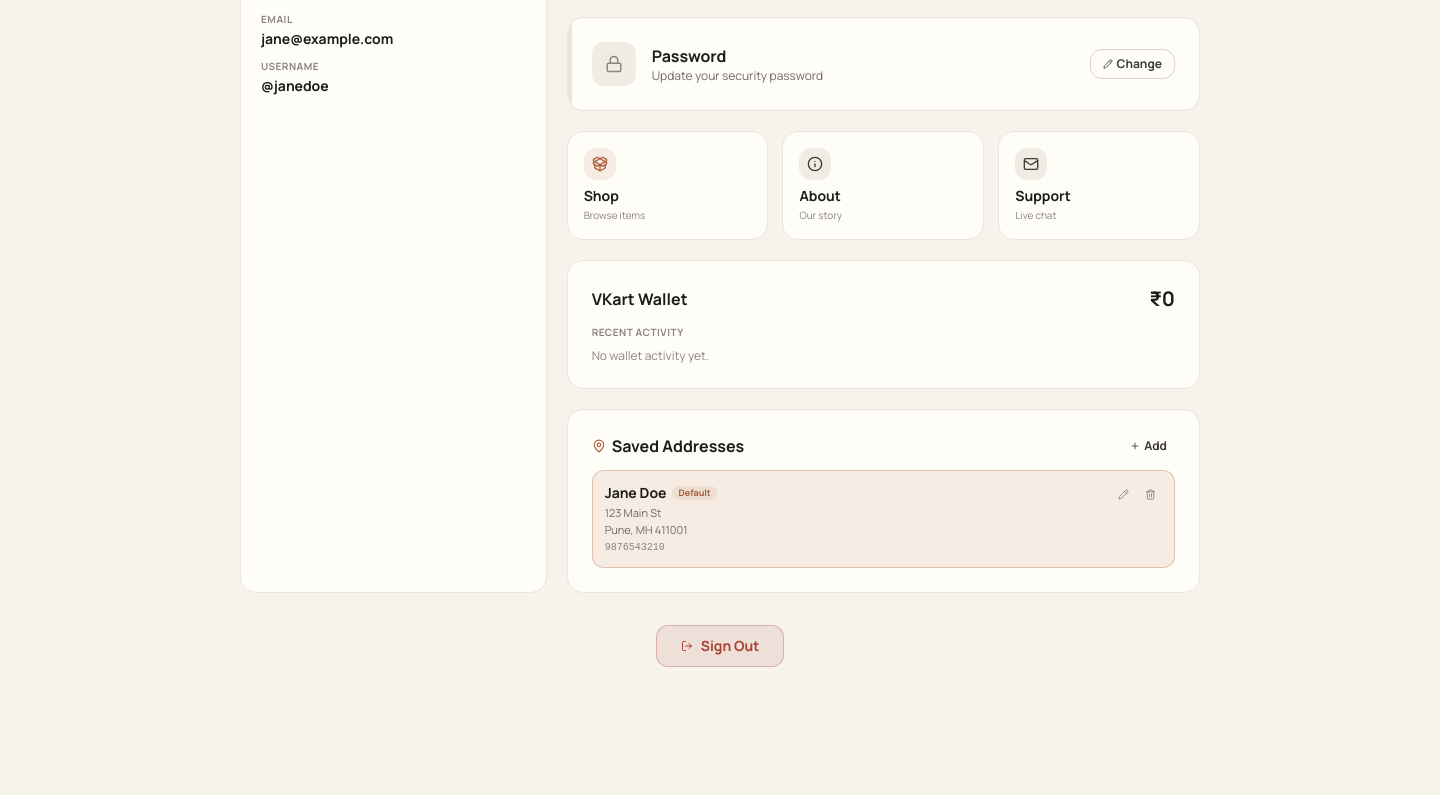
Scenario: Profile Component › edits and deletes an existing address
(page scrolled)
Check: the text "123 Main St" is shown, box left=605, top=505, right=661, bottom=520
Step 1. Click the 5th button → [1150, 494], box left=1139, top=483, right=1162, bottom=506
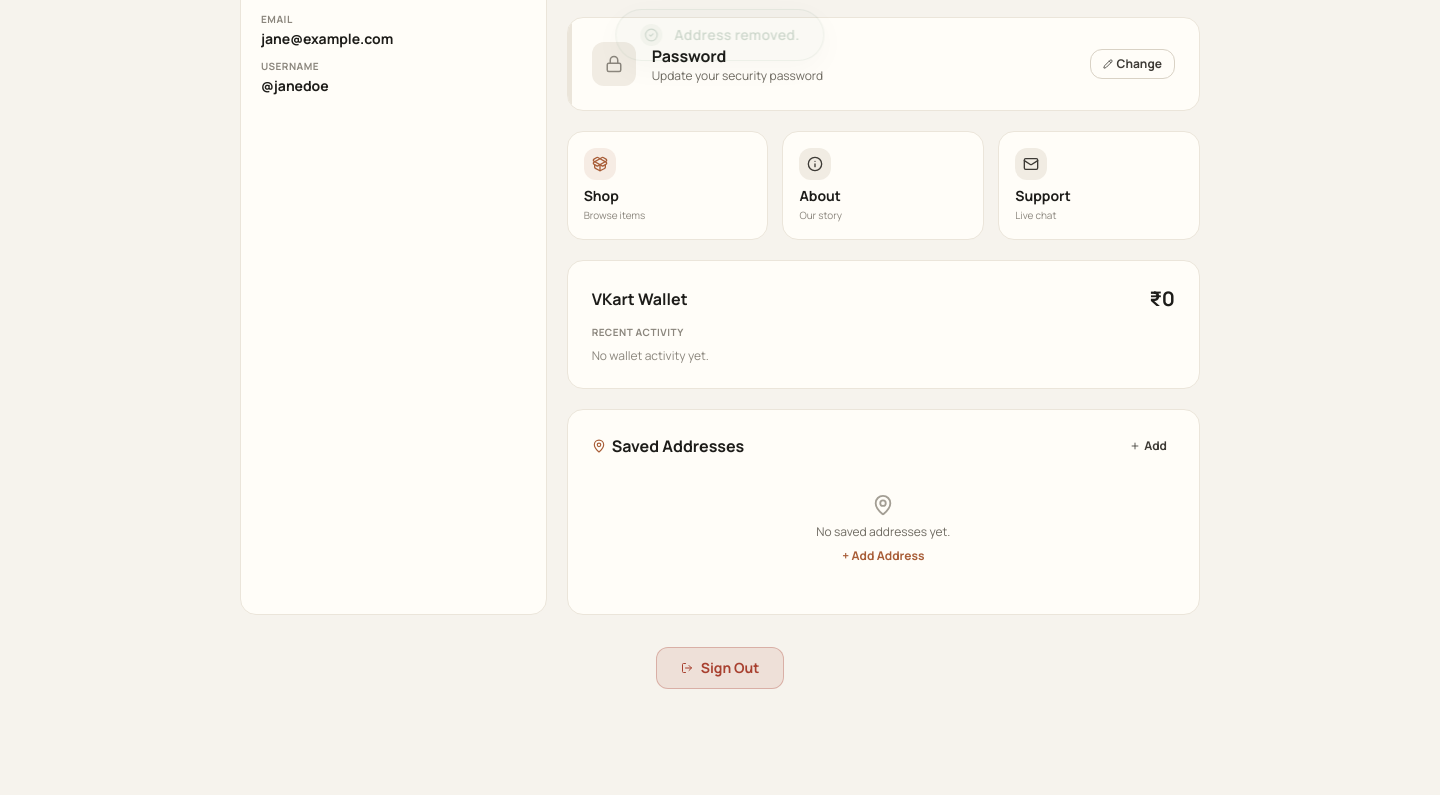
Check: the text "Address removed." is shown, box left=674, top=25, right=800, bottom=45
